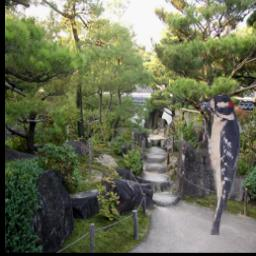Woodpecker: (198, 92, 241, 236)
